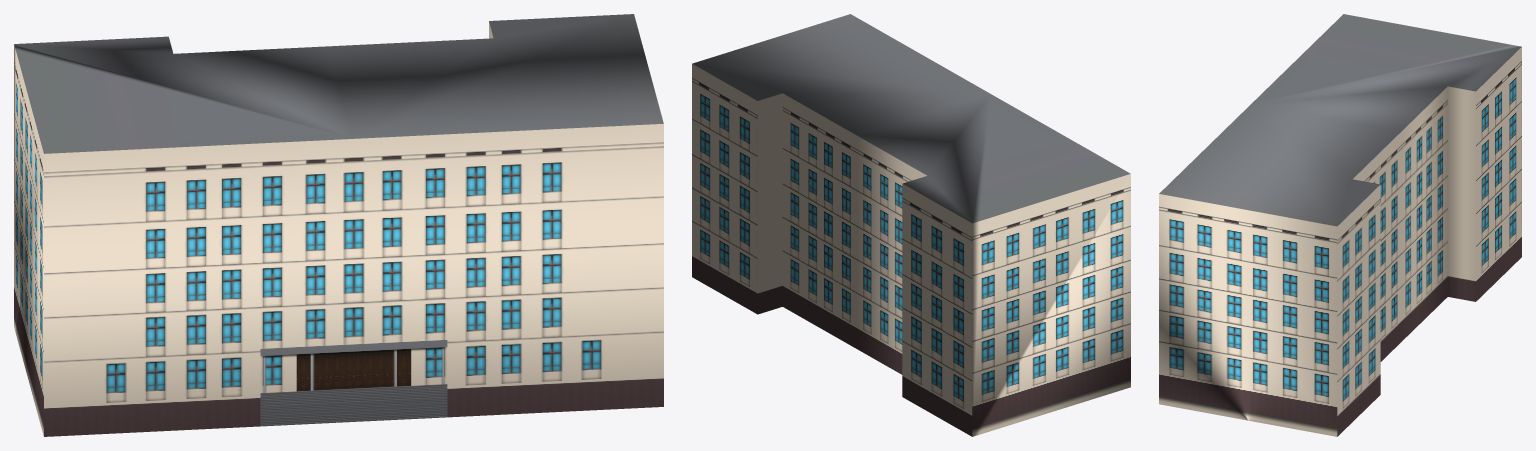
Rendered from lp-building4.fbx.
3 views of the same model, side by side, from view 1: azimuth 30°, elevation 25°; view 2: azimuth 150°, elevation 25°; view 3: azimuth 270°, elevation 25° (orthographic). The views are drawn at different scales.
Parts seen in each view (by area): view 1: 01houses.028; view 2: 01houses.028; view 3: 01houses.028.
Part boxes in pixels (<box>): 01houses.028: <box>14,14,663,436</box>; 01houses.028: <box>692,14,1130,436</box>; 01houses.028: <box>1159,14,1521,436</box>.
Bounding box in the file's own units: 1786 × 825 × 1289.
Materials: 1 (1 with a texture image).
